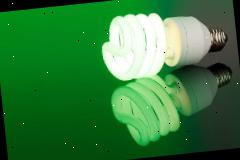lightbulb: (108, 60, 238, 149), (97, 3, 230, 84), (108, 74, 182, 150), (162, 61, 235, 119), (159, 10, 229, 70)
